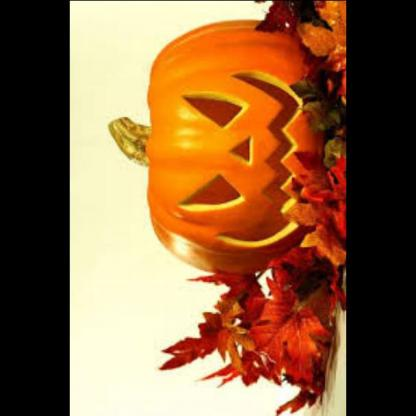pumpkin: (135, 19, 329, 282)
